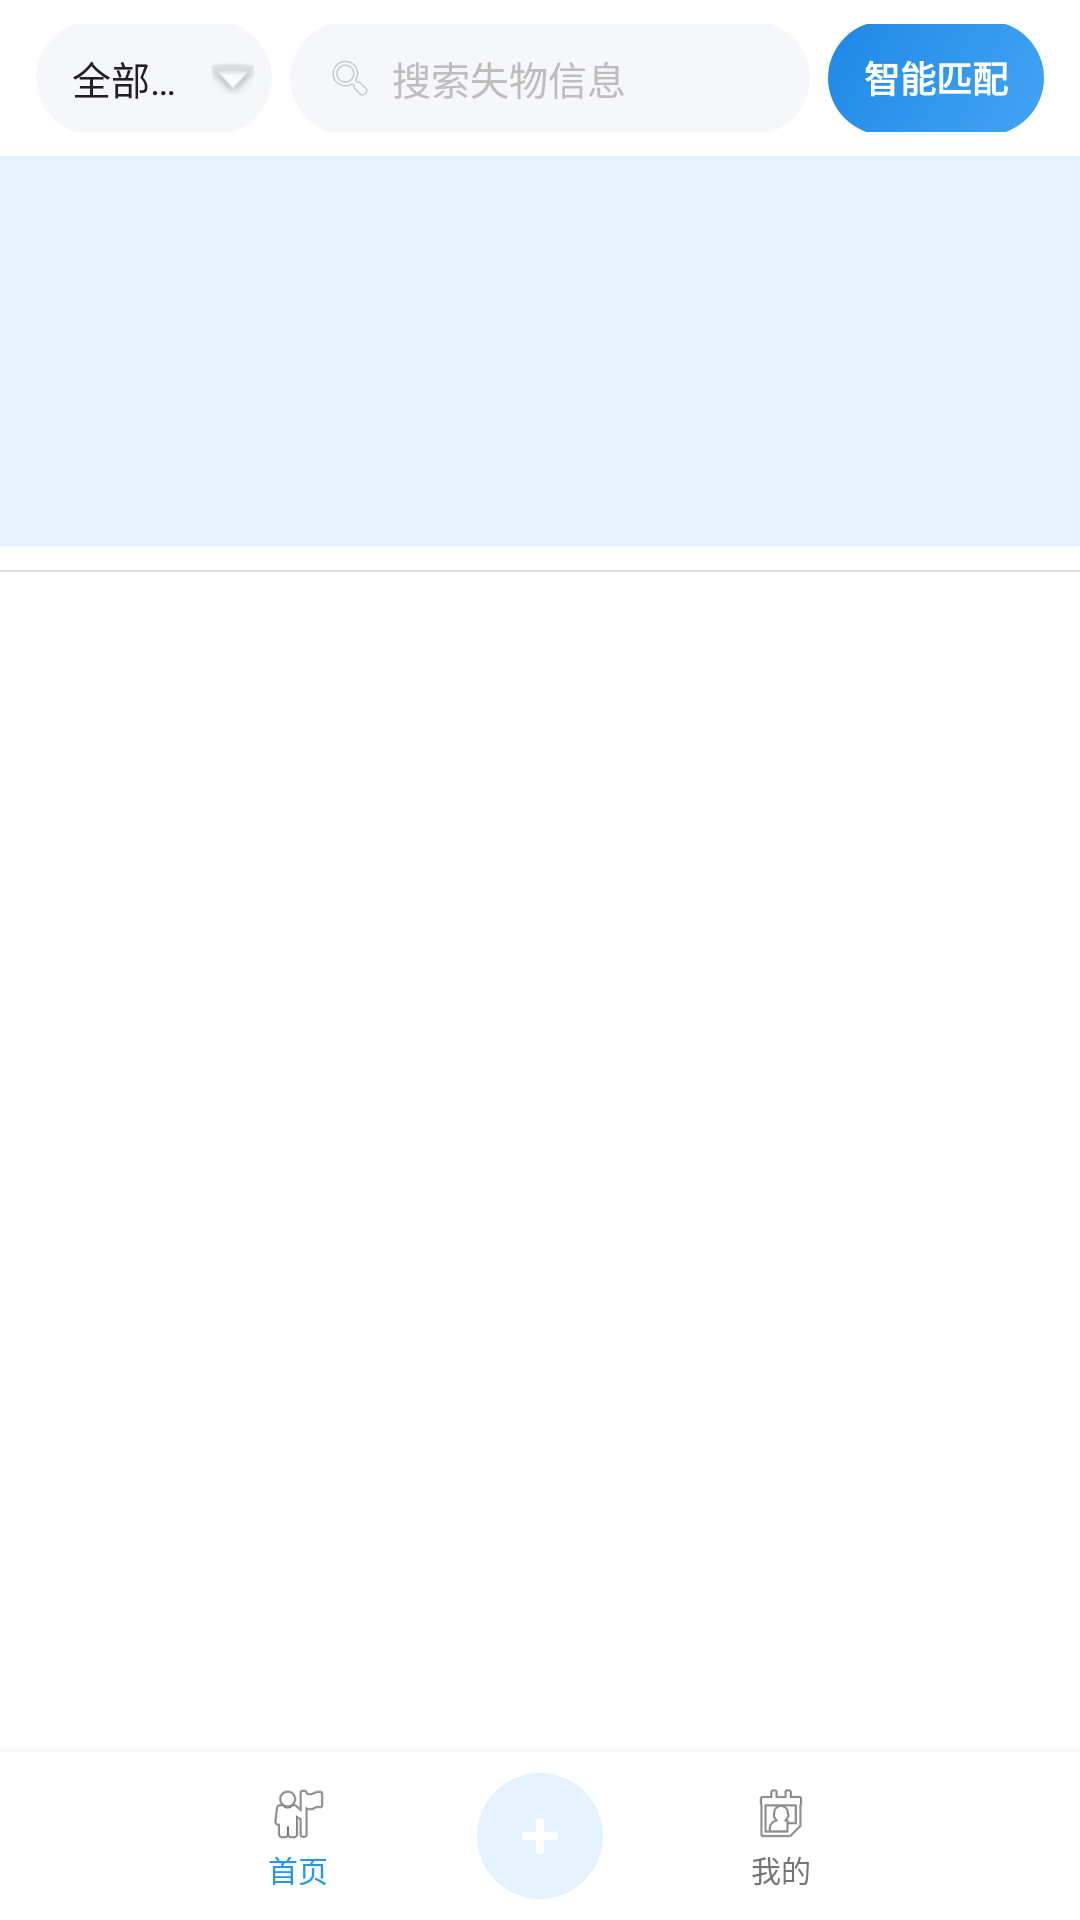

Named icons in this screenshot (1080 × 1920) and their bounding boxes, region(x1, y1, x2, y2):
dropdown: region(214, 65, 252, 90)
发布: region(477, 1773, 603, 1899)
